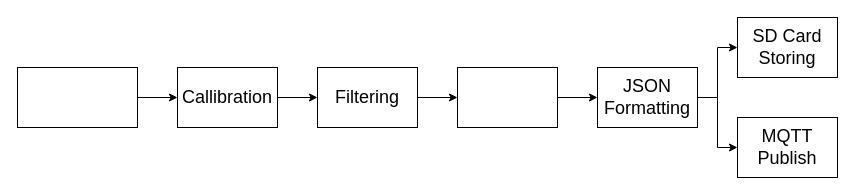
The diagram is 855 pixels wide and 195 high, and some of its shapes have lost their labels. Each missing label, with the centre of its shape:
"Raw Sensor Data" belongs at (77,97).
"Unit conversion" belongs at (507,97).
